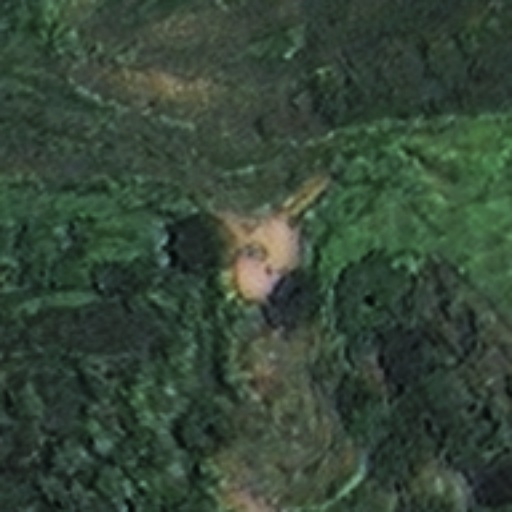landslide: (217, 206, 298, 300)
